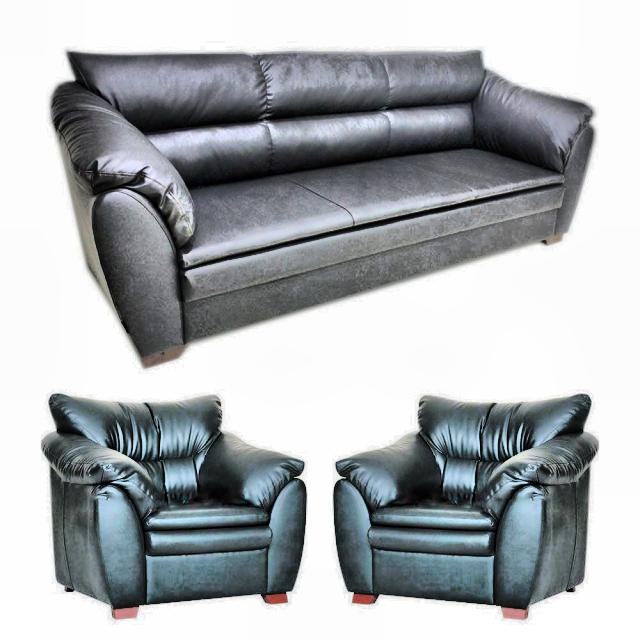sofa: (48, 47, 596, 368), (40, 391, 308, 620), (332, 392, 599, 620)
